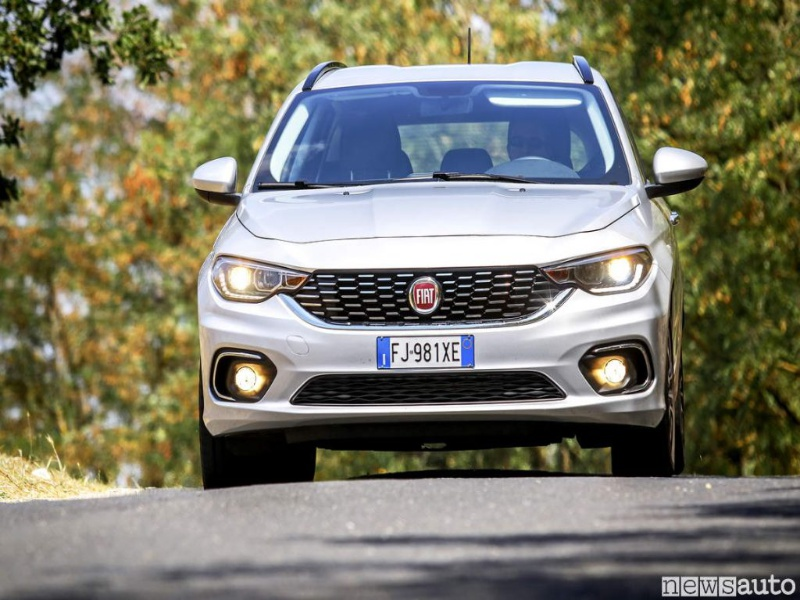licence_plate: (369, 328, 484, 375)
